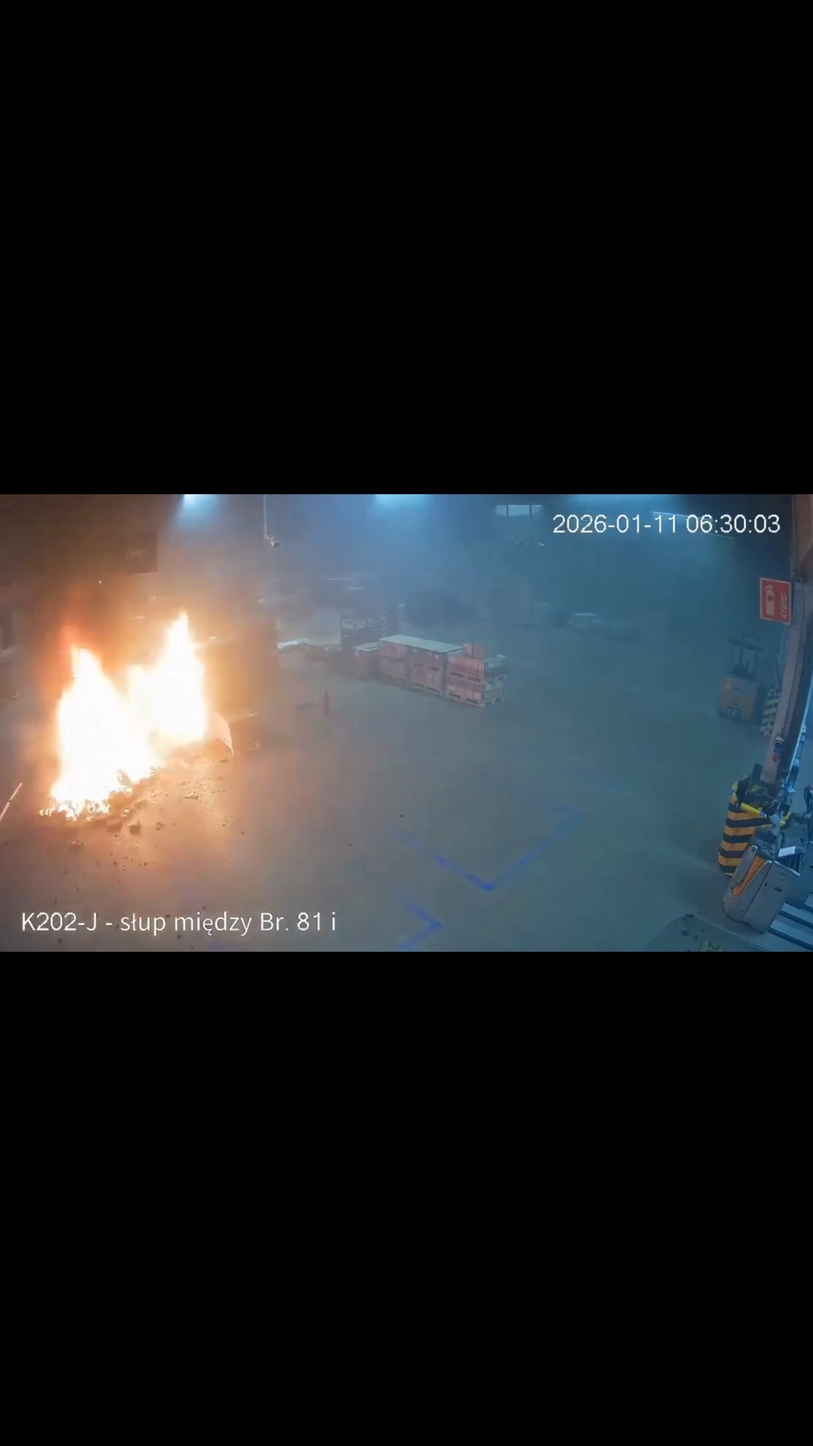fire: (41, 606, 218, 822)
smoke: (2, 496, 358, 649)
